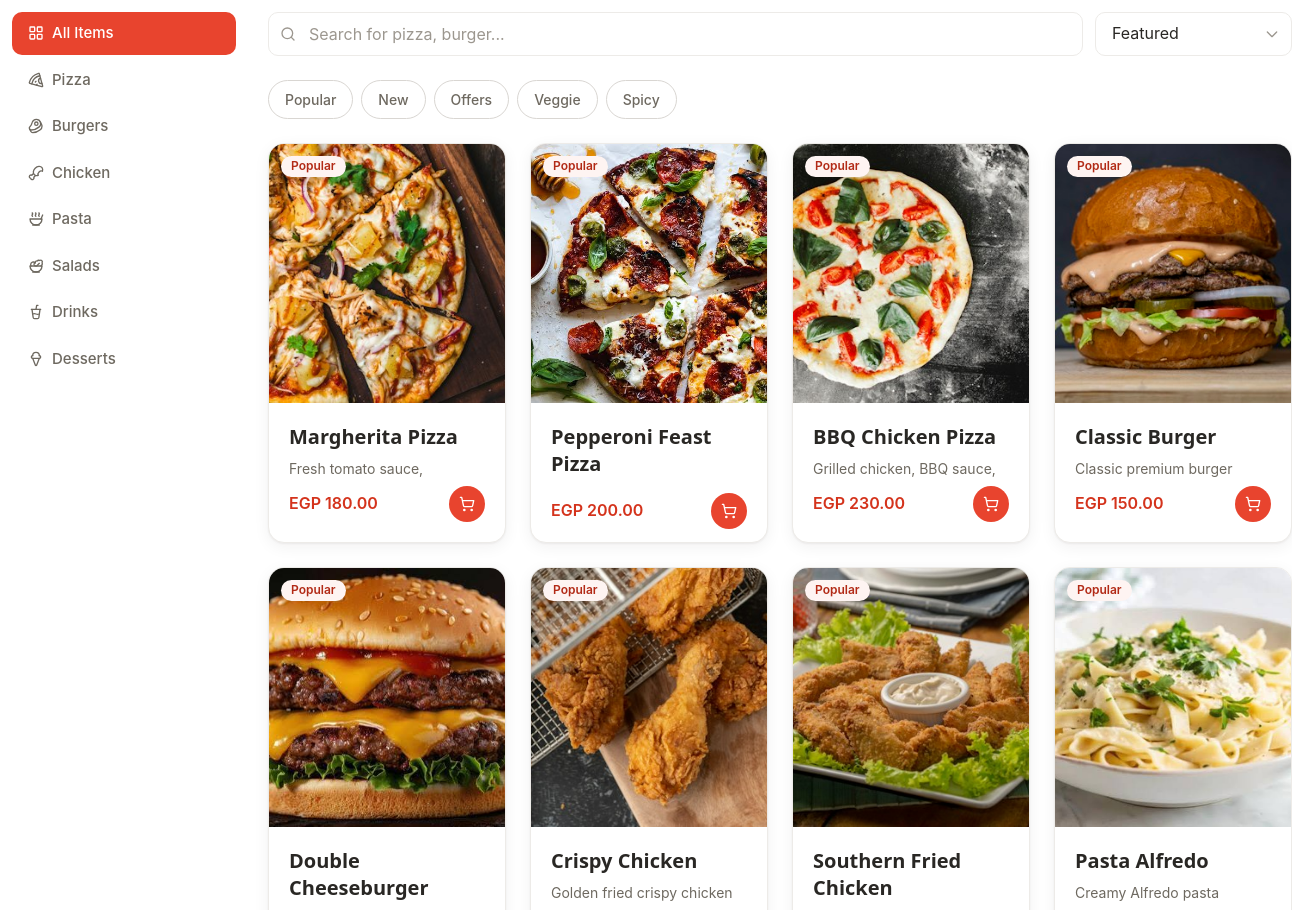
Test: MenuClient › filters by tag
Click the button "Veggie". click: (557, 100)
box: [517,80,598,119]
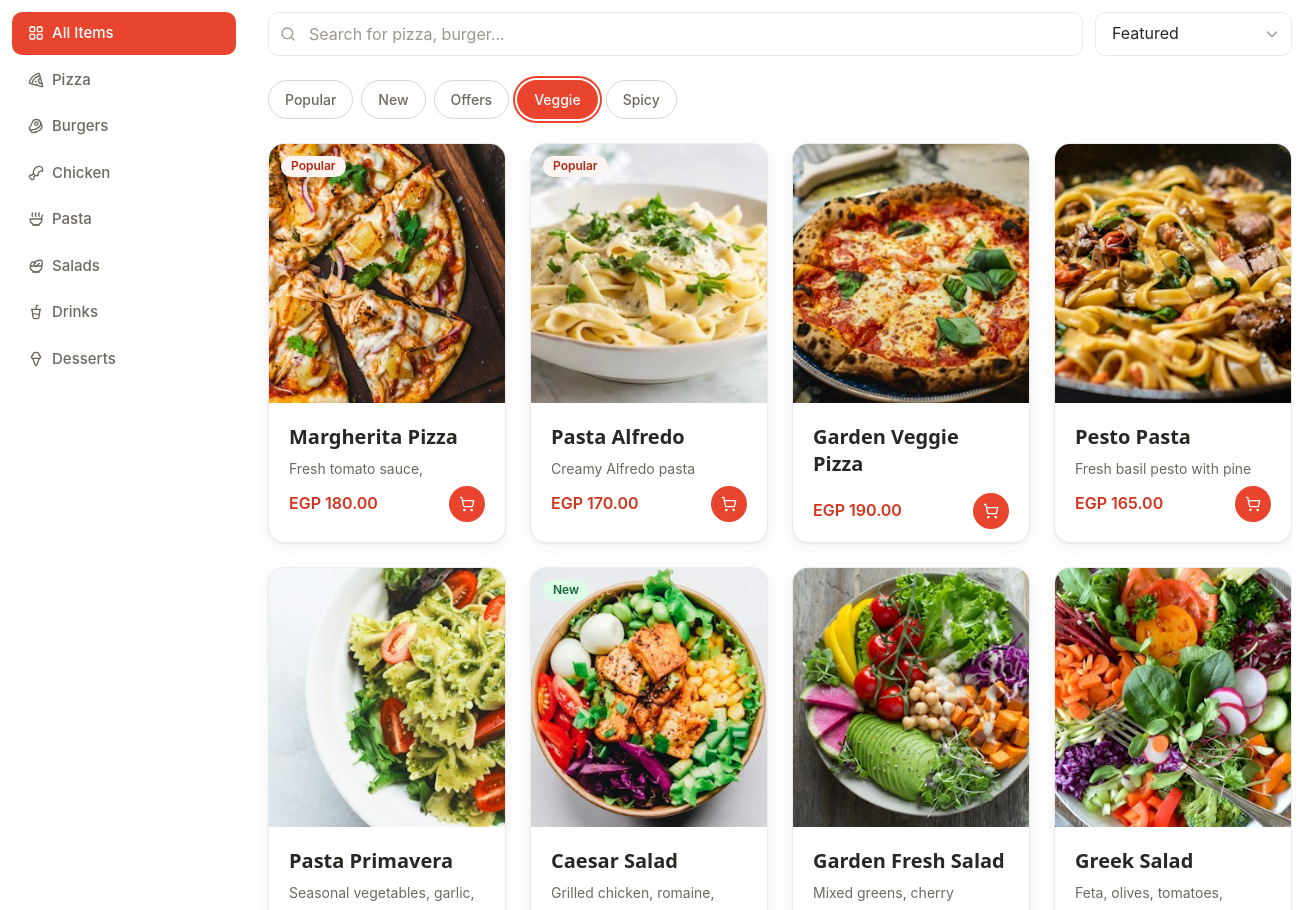
Expected: the heading "Margherita Pizza" is shown, [289,423,485,450]
Result: the link "Classic Burger" is gone
